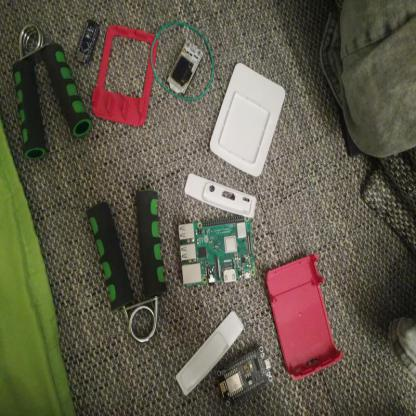Arduino_Nano: (76, 17, 103, 69)
ESP8266: (215, 341, 276, 409)
Heltec_ESP32_Lora: (165, 39, 207, 99)
Raspberry_Pi_3: (174, 214, 260, 288)
